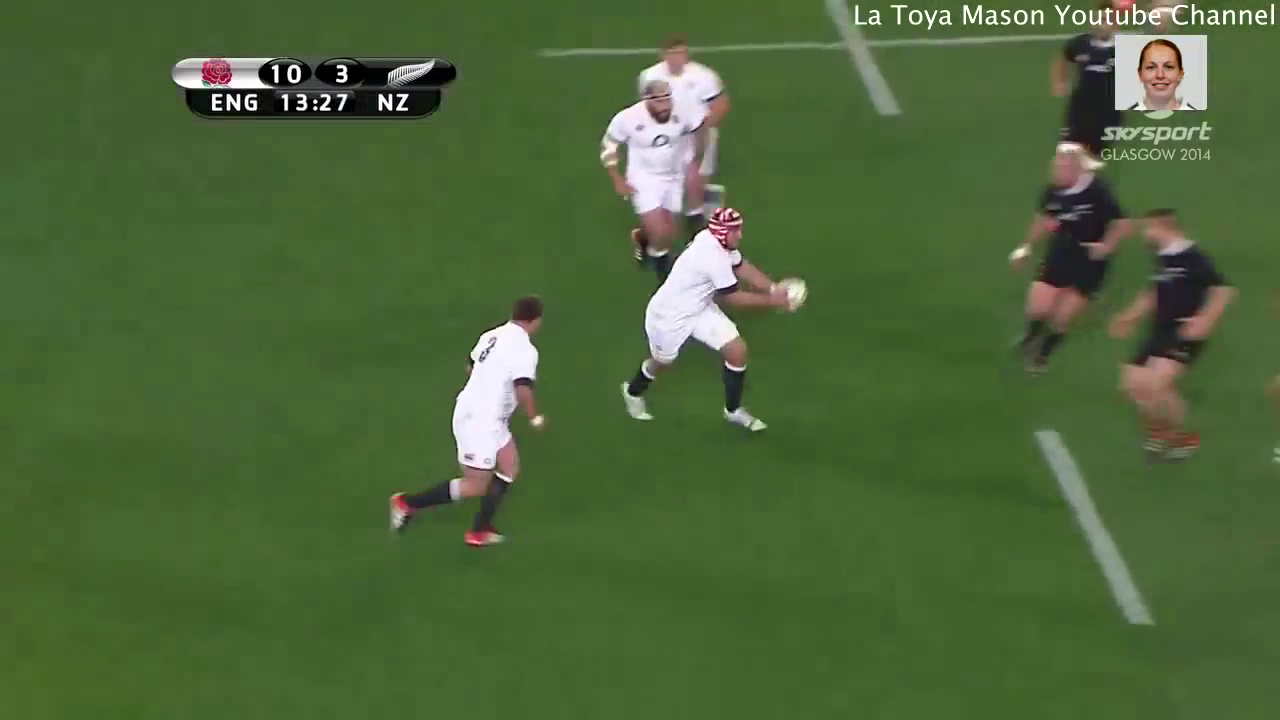10_metre: (524, 1, 1156, 126)
ball: (746, 258, 825, 332)
player: (604, 199, 830, 444), (364, 287, 559, 555), (1100, 202, 1239, 476), (991, 141, 1133, 386), (583, 78, 708, 306), (1038, 1, 1153, 241), (624, 23, 731, 212)
